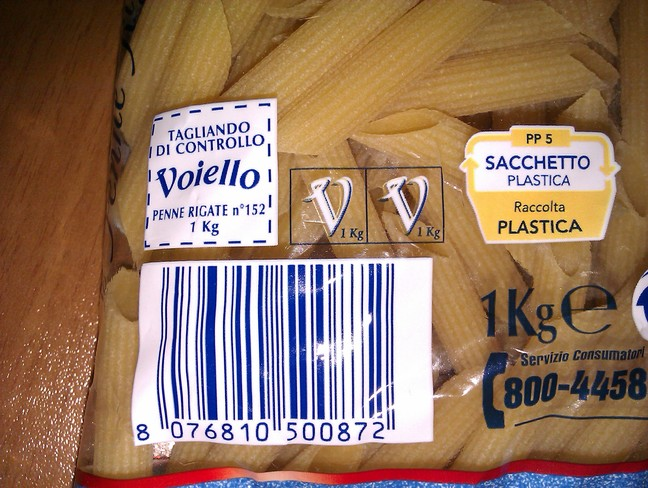barcode: (133, 264, 410, 447)
